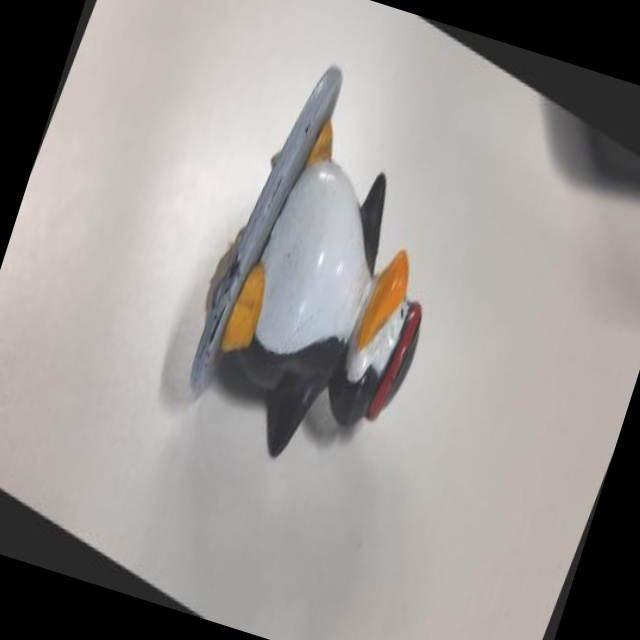Penguin: (140, 17, 520, 530)
